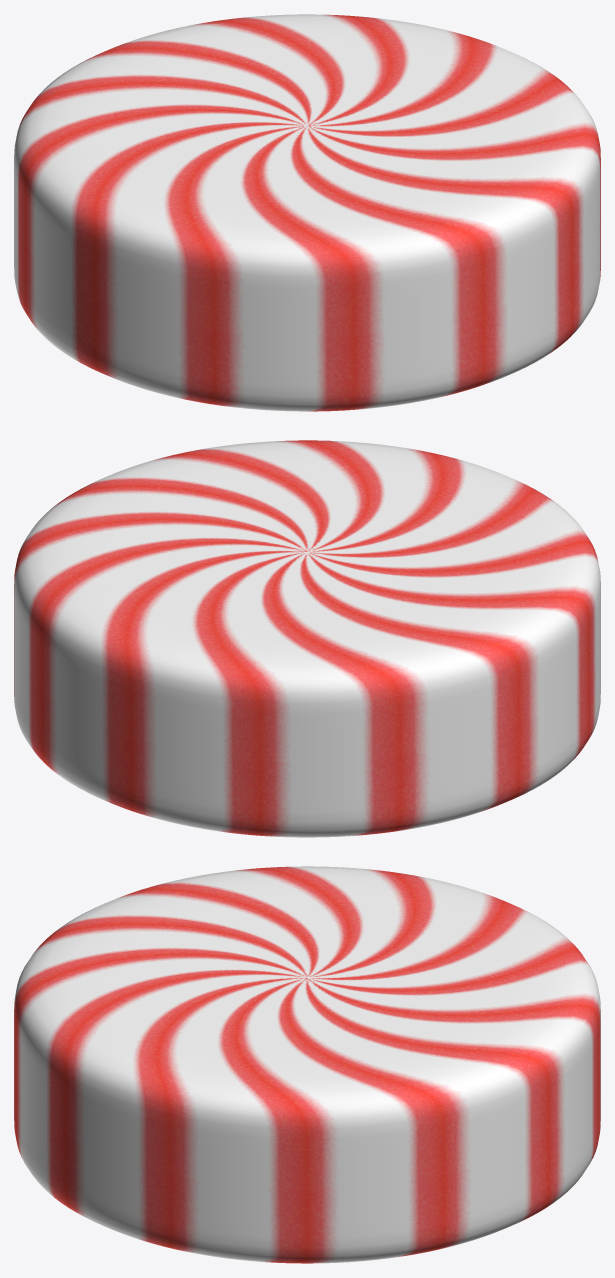
File: peppermint_candy.glb
The picture shows the model from 3 angles, top to bottom: view 1: azimuth 30°, elevation 25°; view 2: azimuth 150°, elevation 25°; view 3: azimuth 270°, elevation 25°; orthographic projection.
Visible parts, largest first — view 1: peppermint candy; view 2: peppermint candy; view 3: peppermint candy.
Part boxes in pixels (x1,y1,x2,y2): peppermint candy: (14,14,600,411); peppermint candy: (14,440,600,837); peppermint candy: (14,866,600,1263).
Size of the model in its own units: 1.99 by 0.65 by 1.99.
1 material, 1 textured.
